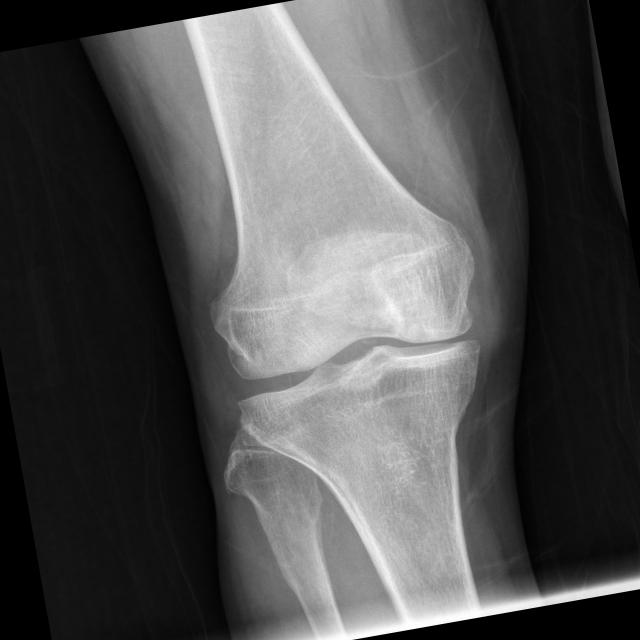Knee: (200, 236, 500, 458)
